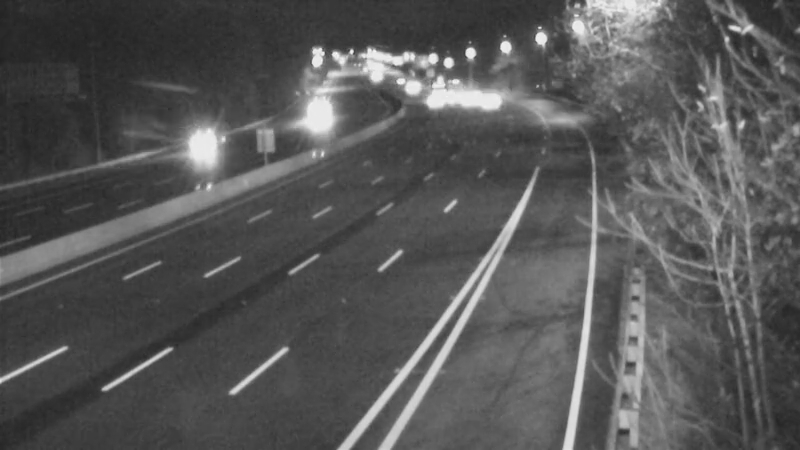vehicle: (384, 62, 434, 112), (423, 69, 473, 119), (461, 74, 511, 124), (433, 77, 483, 127), (407, 74, 457, 124), (175, 124, 225, 174), (293, 90, 343, 140)
